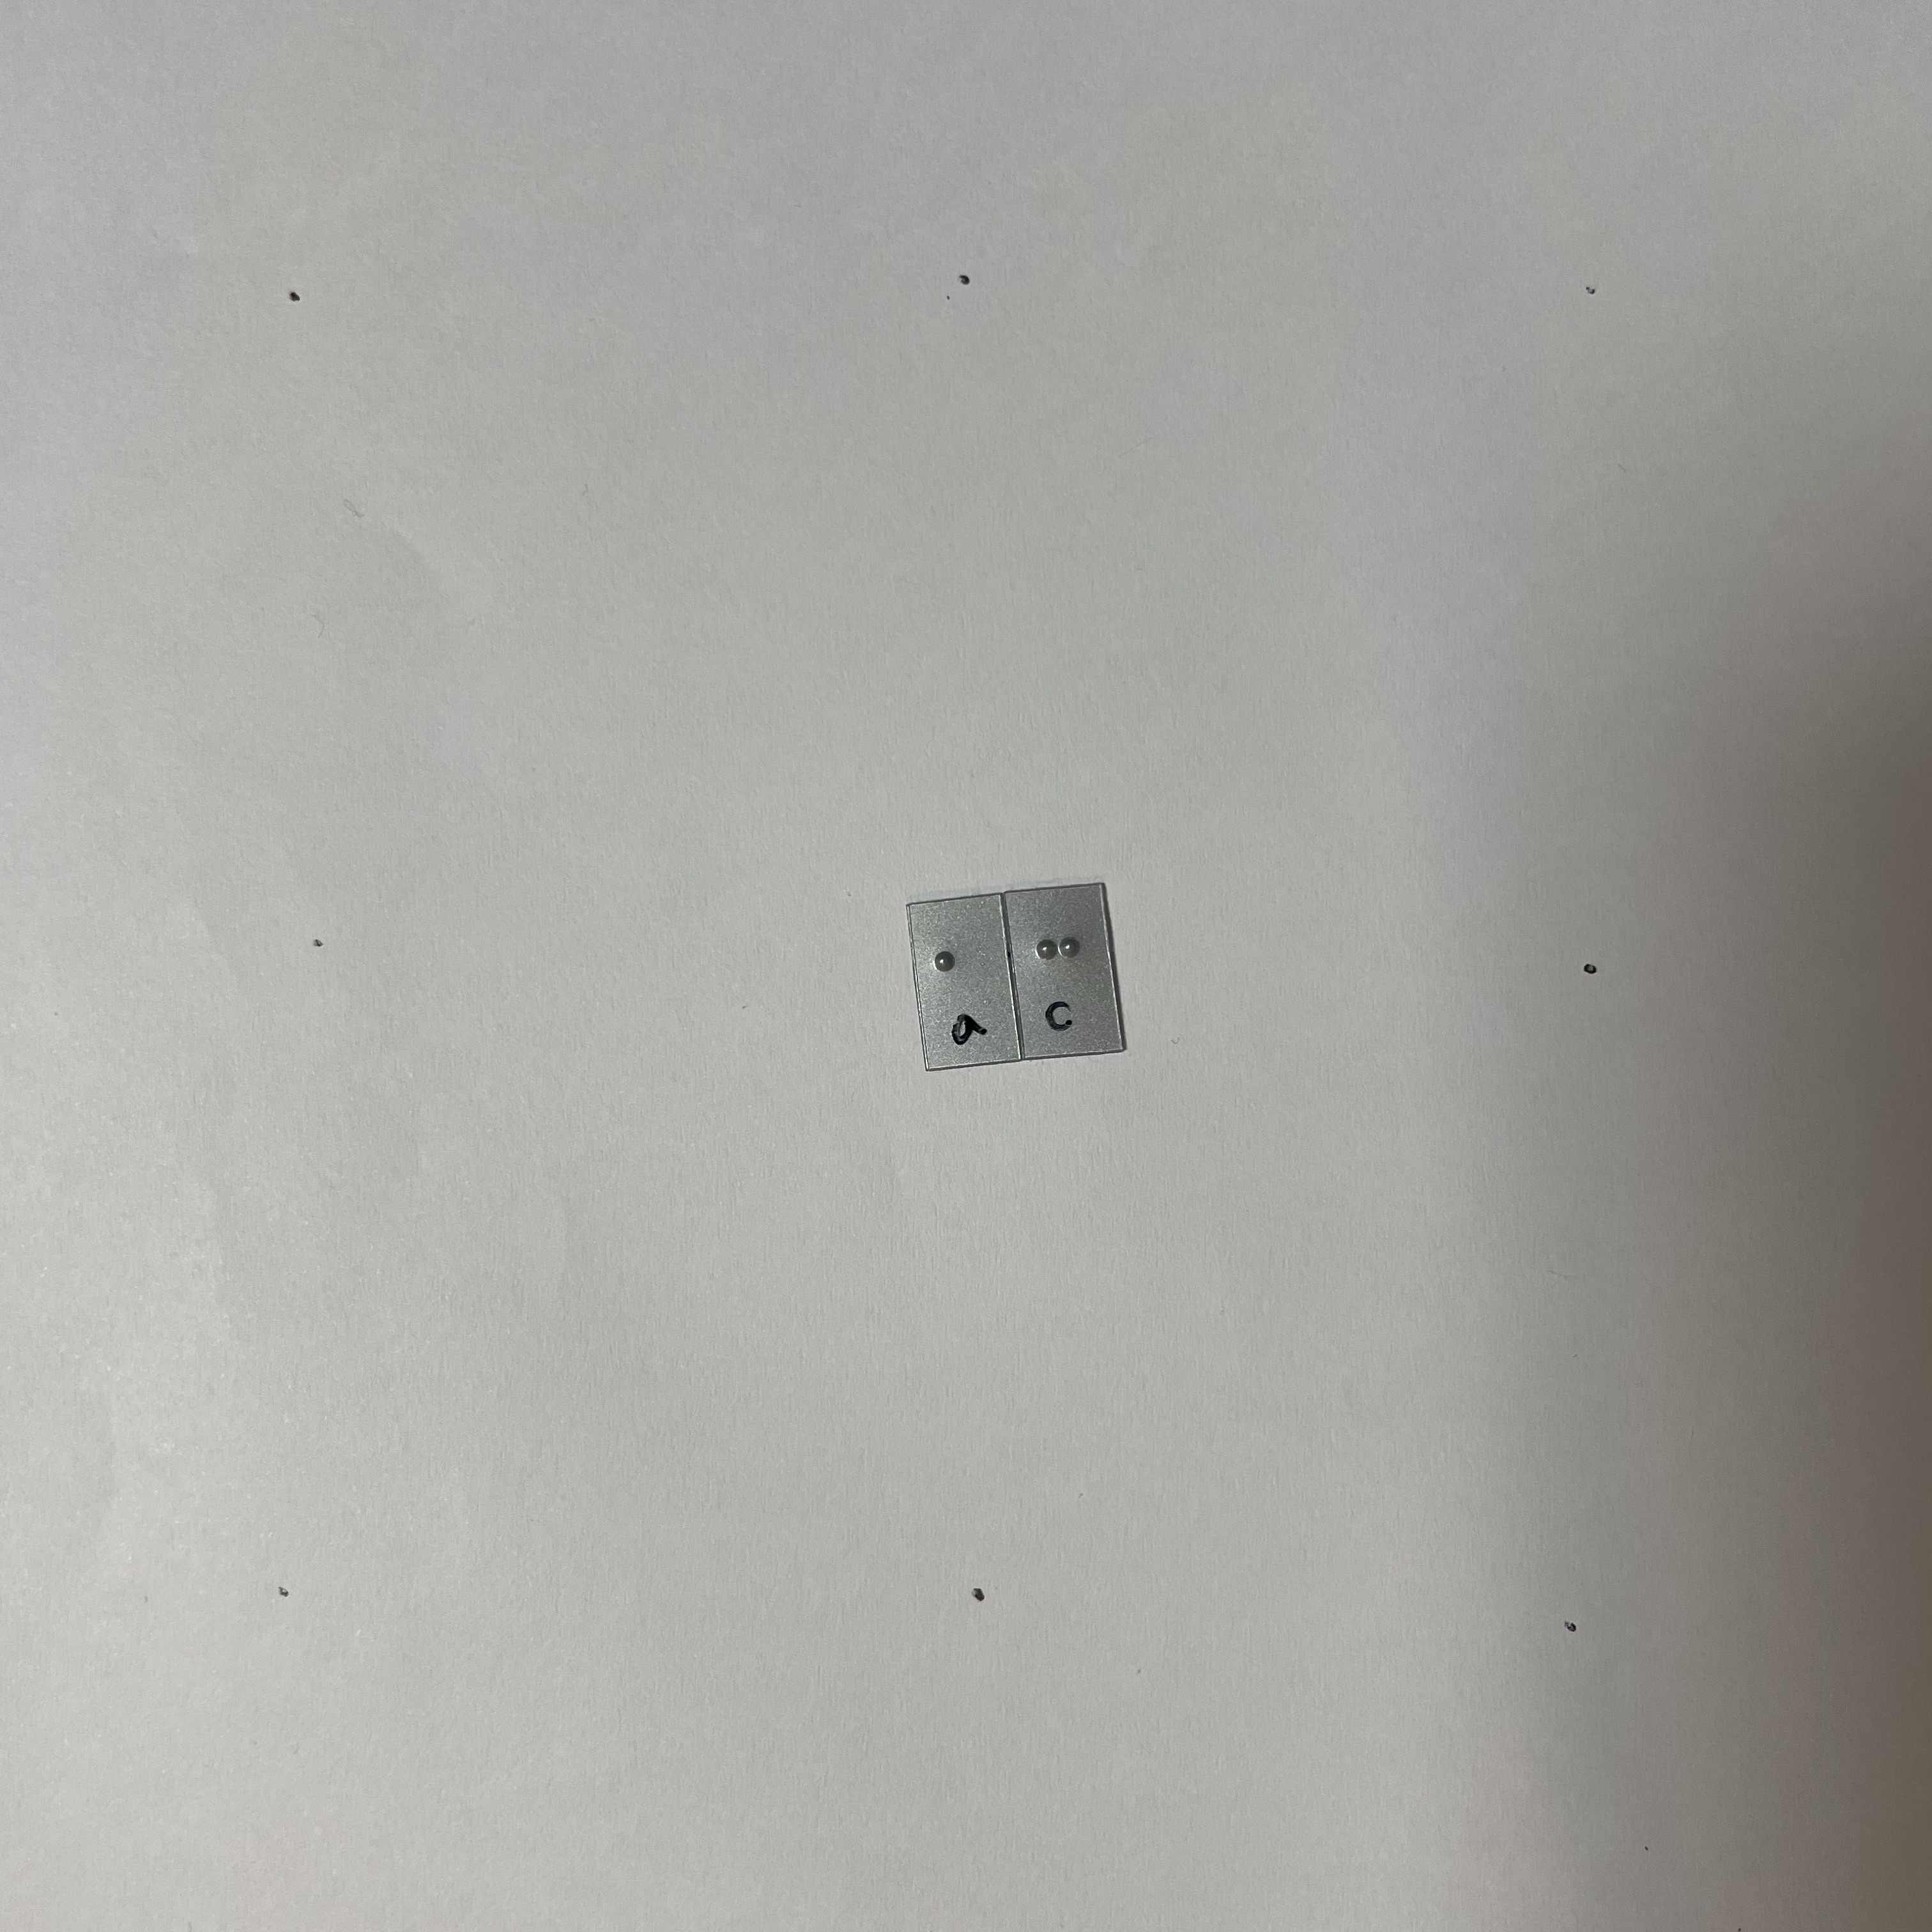a: (926, 936, 988, 1015)
c: (1027, 930, 1089, 1002)
